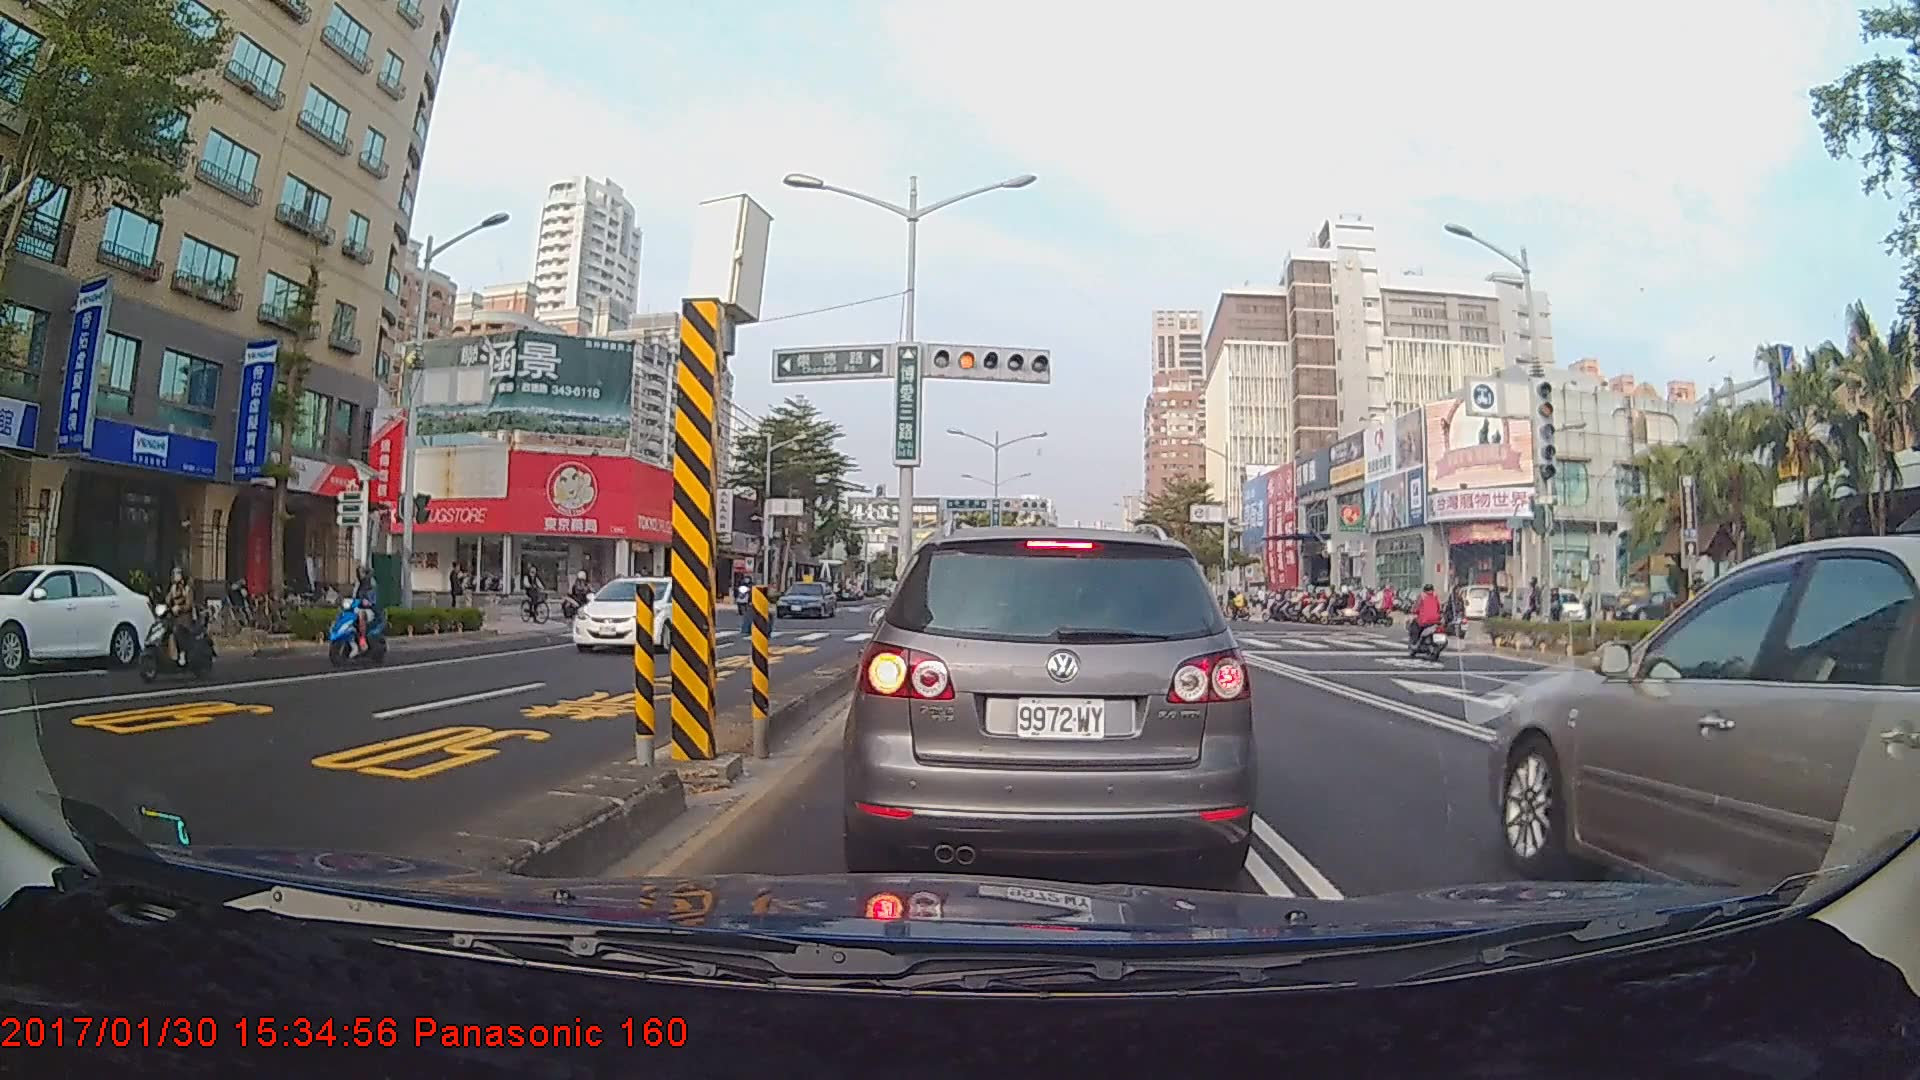pedestrian: (1484, 579, 1509, 637), (448, 558, 468, 621)
rider: (134, 562, 224, 690), (324, 552, 392, 677), (1402, 583, 1457, 671), (518, 559, 553, 629), (1436, 582, 1473, 646)
vehicle: (1488, 536, 1920, 996), (853, 523, 1244, 879), (0, 561, 176, 671), (569, 573, 706, 655), (774, 578, 835, 619)
